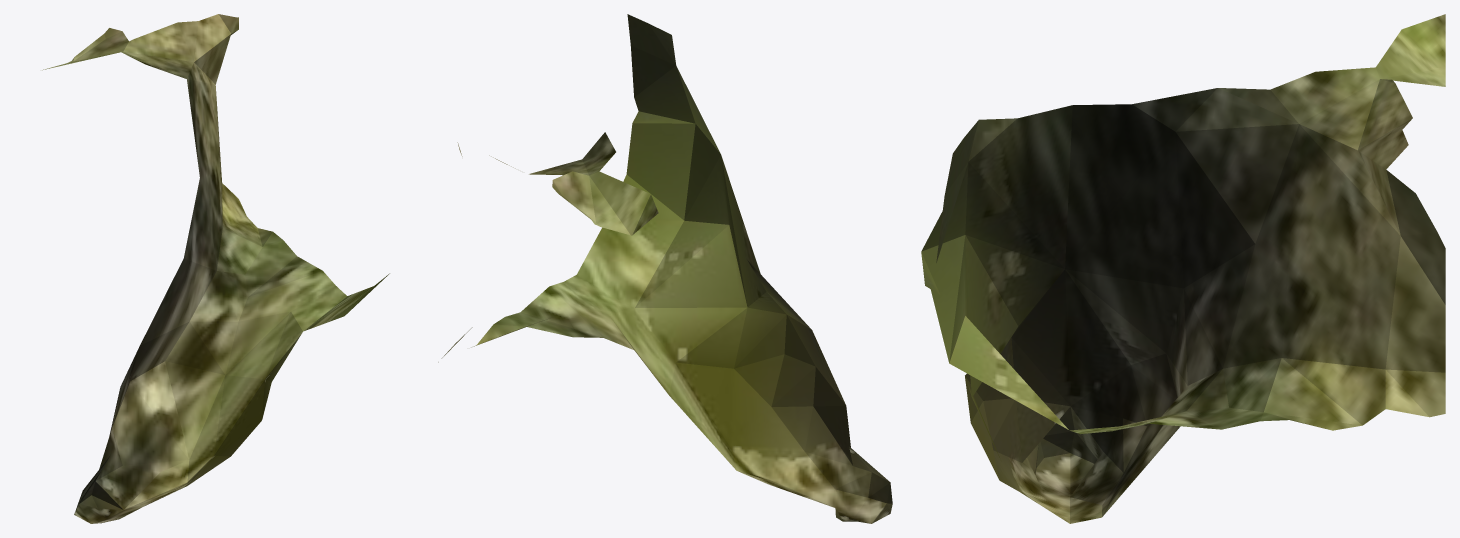
3 views of the same model, side by side, from view 1: azimuth 30°, elevation 25°; view 2: azimuth 150°, elevation 25°; view 3: azimuth 270°, elevation 25° (orthographic). The views are drawn at different scales.
Bounding box in the file's own units: 1.32 × 1.65 × 1.54.
Materials: 1 (1 with a texture image).
